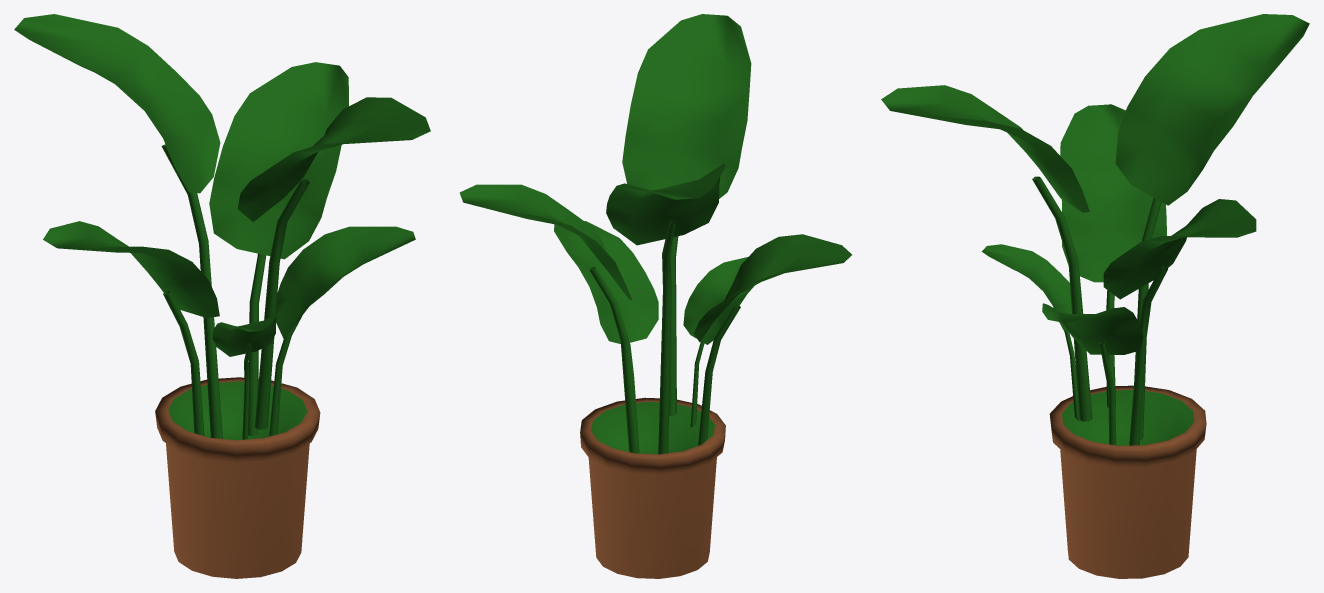
3 views of the same model, side by side, from view 1: azimuth 30°, elevation 25°; view 2: azimuth 150°, elevation 25°; view 3: azimuth 270°, elevation 25° (orthographic). The views are drawn at different scales.
Visible parts, largest first — view 1: plant_L.001; view 2: plant_L.001; view 3: plant_L.001.
Boxes of the visible parts, box(x1,y1,x2,y2) form: plant_L.001: box(14, 14, 430, 578); plant_L.001: box(459, 14, 851, 578); plant_L.001: box(881, 14, 1309, 578).
Size of the model in its own units: 181 by 193 by 236.
